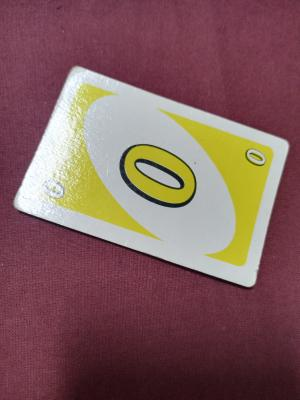num_0: (232, 141, 276, 185)
